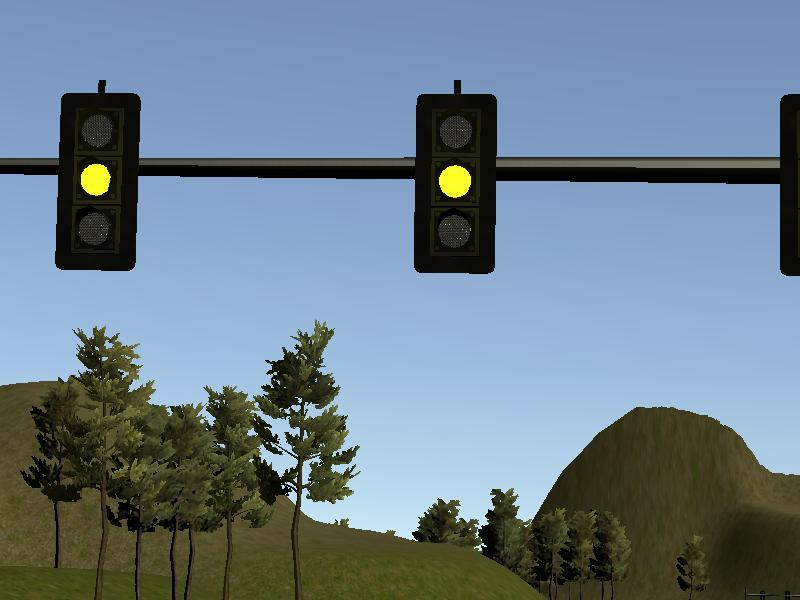Yellow: (55, 93, 142, 271), (413, 94, 497, 274)
